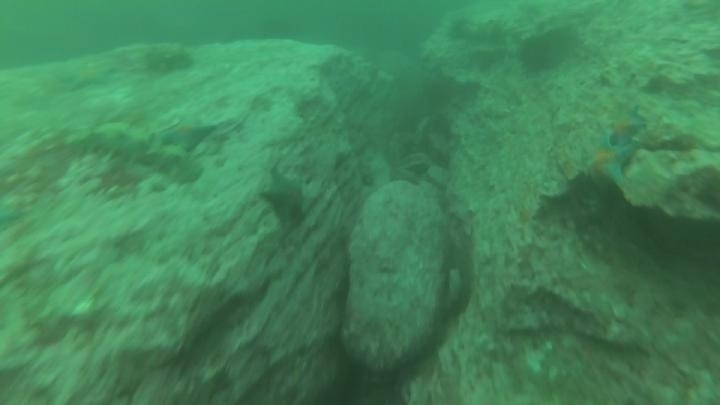echinus: (516, 34, 559, 76)
holothurian: (77, 121, 206, 185), (140, 43, 197, 78)
starfish: (258, 165, 312, 227), (582, 133, 636, 188), (157, 116, 218, 155), (605, 104, 648, 147), (62, 60, 116, 93)
